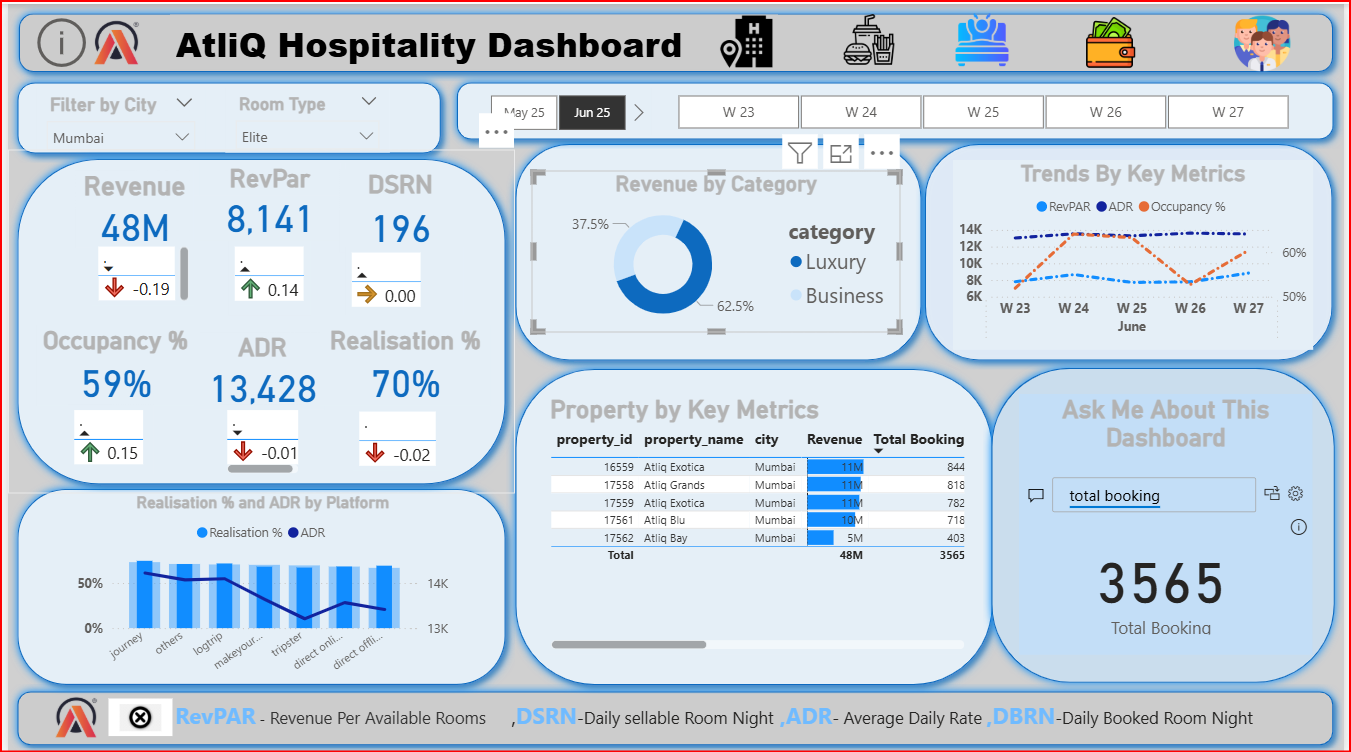

The dashboard page shown, as its layout file describes it:
{"tool":"powerbi","page":{"name":"Home","canvas":[1280,720],"ordinal":0},"visuals":[{"type":"shape","box":[1.5,0,1278,74.2],"z":0},{"type":"shape","box":[0,649.6,1279.5,69.7],"z":1000},{"type":"shape","box":[477,340.7,475.5,321],"z":2000},{"type":"shape","box":[477,125.7,407.3,225.6],"z":3000},{"type":"donutChart","title":"Revenue by Category","fields":{"Category":["dim_hotels.category"],"Y":["CountNonNull(fact_aggregate_booking.room_category)"]},"box":[501.2,159,354.3,156],"z":4000},{"type":"tableEx","title":"Property by Key Metrics","fields":{"Values":["dim_hotels.property_id","dim_hotels.property_name","dim_hotels.city","key_measure.Revenue","key_measure.Total Booking","key_measure.RevPAR","key_measure.Occupancy %","key_measure.ADR","key_measure.DSRN","key_measure.DBRN","key_measure.DURN","key_measure.Realisation %"]},"box":[514.8,374,407.3,249.8],"z":5000},{"type":"shape","box":[870.7,125.7,408.8,225.6],"z":6000},{"type":"lineChart","title":"Trends By Key Metrics","fields":{"Category":["dim_date.date.Variation.Date Hierarchy.Month","dim_date.week no"],"Y":["key_measure.RevPAR","key_measure.ADR"],"Y2":["key_measure.Occupancy %"]},"box":[905.5,149.9,345.2,181.7],"z":7000},{"type":"shape","box":[0,455.8,486.1,205.9],"z":8000},{"type":"shape","box":[420.9,66.6,858.6,72.7],"z":9000},{"type":"slicer","fields":{"Values":["dim_date.mmm yy"]},"box":[437.6,80.3,178.7,46.9],"z":10000},{"type":"slicer","fields":{"Values":["dim_date.week no"]},"box":[616.3,80.3,634.5,45.4],"z":11000},{"type":"lineStackedColumnComboChart","title":"Realisation % and ADR by Platform","fields":{"Category":["fact_booking.booking_platform"],"Y":["key_measure.Realisation %"],"Y2":["key_measure.ADR"]},"box":[60.6,469.4,368,180.2],"z":12000},{"type":"shape","box":[0,66.6,424,86.3],"z":13000},{"type":"slicer","fields":{"Values":["dim_hotels.city"]},"box":[27.3,80.3,162,59.1],"z":14000},{"type":"slicer","fields":{"Values":["dim_room.room_class"]},"box":[209,80.3,157.5,62.1],"z":15000},{"type":"shape","box":[0,139.3,486.1,330.1],"z":16000},{"type":"card","title":"Revenue","fields":{"Values":["key_measure.Revenue"]},"box":[65.1,159,113.6,74.2],"z":17000},{"type":"tableEx","fields":{"Values":["key_measure.Revenue WoW change %"]},"box":[80.5,227.2,97.8,61.8],"z":18000},{"type":"card","title":"Occupancy %","fields":{"Values":["key_measure.Occupancy %"]},"box":[27.3,307.4,151.4,77.2],"z":19000},{"type":"tableEx","fields":{"Values":["key_measure.Occupancy WoW change %"]},"box":[57.5,384.6,81.8,66.6],"z":20000},{"type":"card","title":"RevPar","fields":{"Values":["key_measure.RevPAR"]},"box":[178.7,152.9,145.4,74.2],"z":21000},{"type":"tableEx","fields":{"Values":["key_measure.Revpar WoW change %"]},"box":[212,227.1,78.7,71.2],"z":22000},{"type":"card","title":"ADR","fields":{"Values":["key_measure.ADR"]},"box":[184.7,315,119.6,74.2],"z":23000},{"type":"tableEx","fields":{"Values":["key_measure.ADR WoW change %"]},"box":[204.4,384.6,78.7,71.2],"z":24000},{"type":"card","title":"DSRN","fields":{"Values":["key_measure.DSRN"]},"box":[318,157.5,116.6,80.3],"z":25000},{"type":"tableEx","fields":{"Values":["key_measure.DSRN WoW change %"]},"box":[324,233.2,113.6,65.1],"z":26000},{"type":"card","title":"Realisation %","fields":{"Values":["key_measure.Realisation %"]},"box":[299.8,307.4,163.5,77.2],"z":27000},{"type":"tableEx","fields":{"Values":["key_measure.Realisation WoW change %"]},"box":[330.1,386.1,93.9,62.1],"z":28000},{"type":"image","box":[1.5,658.7,128.7,50],"z":29000},{"type":"textbox","box":[156,661.7,330.1,46.9],"z":30000},{"type":"textbox","box":[477,661.7,752.6,46.9],"z":31000},{"type":"image","box":[42.4,10.6,125.7,53],"z":32000},{"type":"textbox","box":[156,10.6,583,53],"z":33000},{"type":"image","box":[675.3,6.1,63.6,60.6],"z":34000},{"type":"image","box":[766.2,4.5,118.1,59.1],"z":35000},{"type":"image","box":[899.4,0,69.7,68.1],"z":36000},{"type":"image","box":[1155.3,6.1,95.4,63.6],"z":37000},{"type":"image","box":[1010,7.6,95.4,59.1],"z":38000},{"type":"shape","box":[934.3,340.7,345.2,318],"z":39000},{"type":"qnaVisual","title":"Ask Me About This Dashboard","box":[969.1,374,281.6,249.8],"z":40000},{"type":"actionButton","box":[21.2,7.7,73.2,59.7],"z":42000},{"type":"image","box":[95.7,666.4,61,36.3],"z":43001}]}

Visuals, with their boxes in screenshot pixels (x1, y1, x2, y2), scaled from the page's 1280x720 canvas onto the 1351x752 screenshot:
shape: l=2, t=0, r=1350, b=77
shape: l=0, t=678, r=1350, b=751
shape: l=503, t=356, r=1005, b=691
shape: l=503, t=131, r=933, b=367
"Revenue by Category" donutChart: l=529, t=166, r=903, b=329
"Property by Key Metrics" tableEx: l=543, t=391, r=973, b=652
shape: l=919, t=131, r=1350, b=367
"Trends By Key Metrics" lineChart: l=956, t=157, r=1320, b=346
shape: l=0, t=476, r=513, b=691
shape: l=444, t=70, r=1350, b=145
slicer - dim_date.mmm yy: l=462, t=84, r=650, b=133
slicer - dim_date.week no: l=650, t=84, r=1320, b=131
"Realisation % and ADR by Platform" lineStackedColumnComboChart: l=64, t=490, r=452, b=678
shape: l=0, t=70, r=448, b=160
slicer - dim_hotels.city: l=29, t=84, r=200, b=146
slicer - dim_room.room_class: l=221, t=84, r=387, b=149
shape: l=0, t=145, r=513, b=490
"Revenue" card: l=69, t=166, r=189, b=244
tableEx - key_measure.Revenue WoW change %: l=85, t=237, r=188, b=302
"Occupancy %" card: l=29, t=321, r=189, b=402
tableEx - key_measure.Occupancy WoW change %: l=61, t=402, r=147, b=471
"RevPar" card: l=189, t=160, r=342, b=237
tableEx - key_measure.Revpar WoW change %: l=224, t=237, r=307, b=312
"ADR" card: l=195, t=329, r=321, b=406
tableEx - key_measure.ADR WoW change %: l=216, t=402, r=299, b=476
"DSRN" card: l=336, t=164, r=459, b=248
tableEx - key_measure.DSRN WoW change %: l=342, t=244, r=462, b=312
"Realisation %" card: l=316, t=321, r=489, b=402
tableEx - key_measure.Realisation WoW change %: l=348, t=403, r=448, b=468
image: l=2, t=688, r=137, b=740
textbox: l=165, t=691, r=513, b=740
textbox: l=503, t=691, r=1298, b=740
image: l=45, t=11, r=177, b=66
textbox: l=165, t=11, r=780, b=66
image: l=713, t=6, r=780, b=70
image: l=809, t=5, r=933, b=66
image: l=949, t=0, r=1023, b=71
image: l=1219, t=6, r=1320, b=73
image: l=1066, t=8, r=1167, b=70
shape: l=986, t=356, r=1350, b=688
"Ask Me About This Dashboard" qnaVisual: l=1023, t=391, r=1320, b=652
actionButton: l=22, t=8, r=100, b=70
image: l=101, t=696, r=165, b=734
